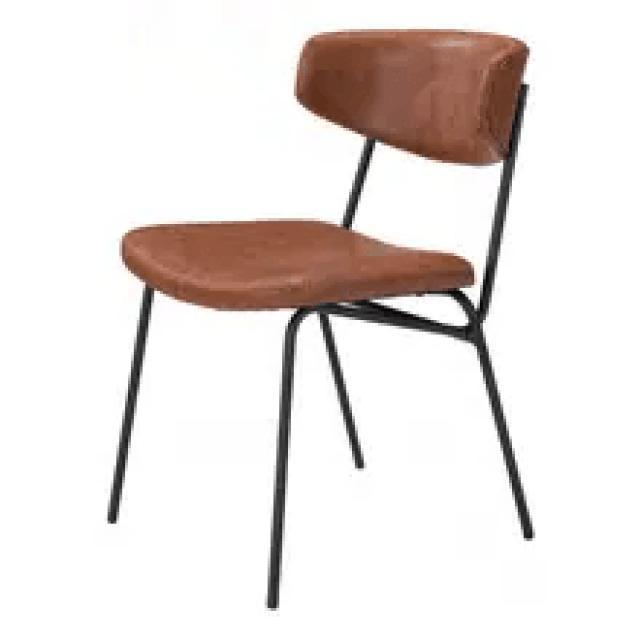chair: (109, 21, 536, 612), (115, 18, 531, 309)
